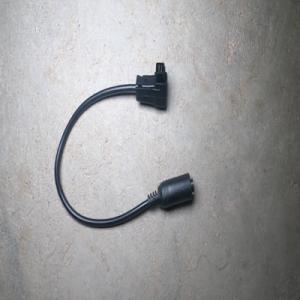Wire: (54, 62, 194, 228)
